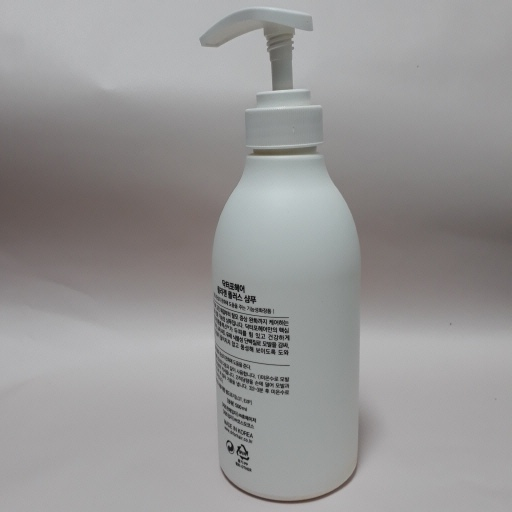Plastic_3: (197, 5, 365, 502)
